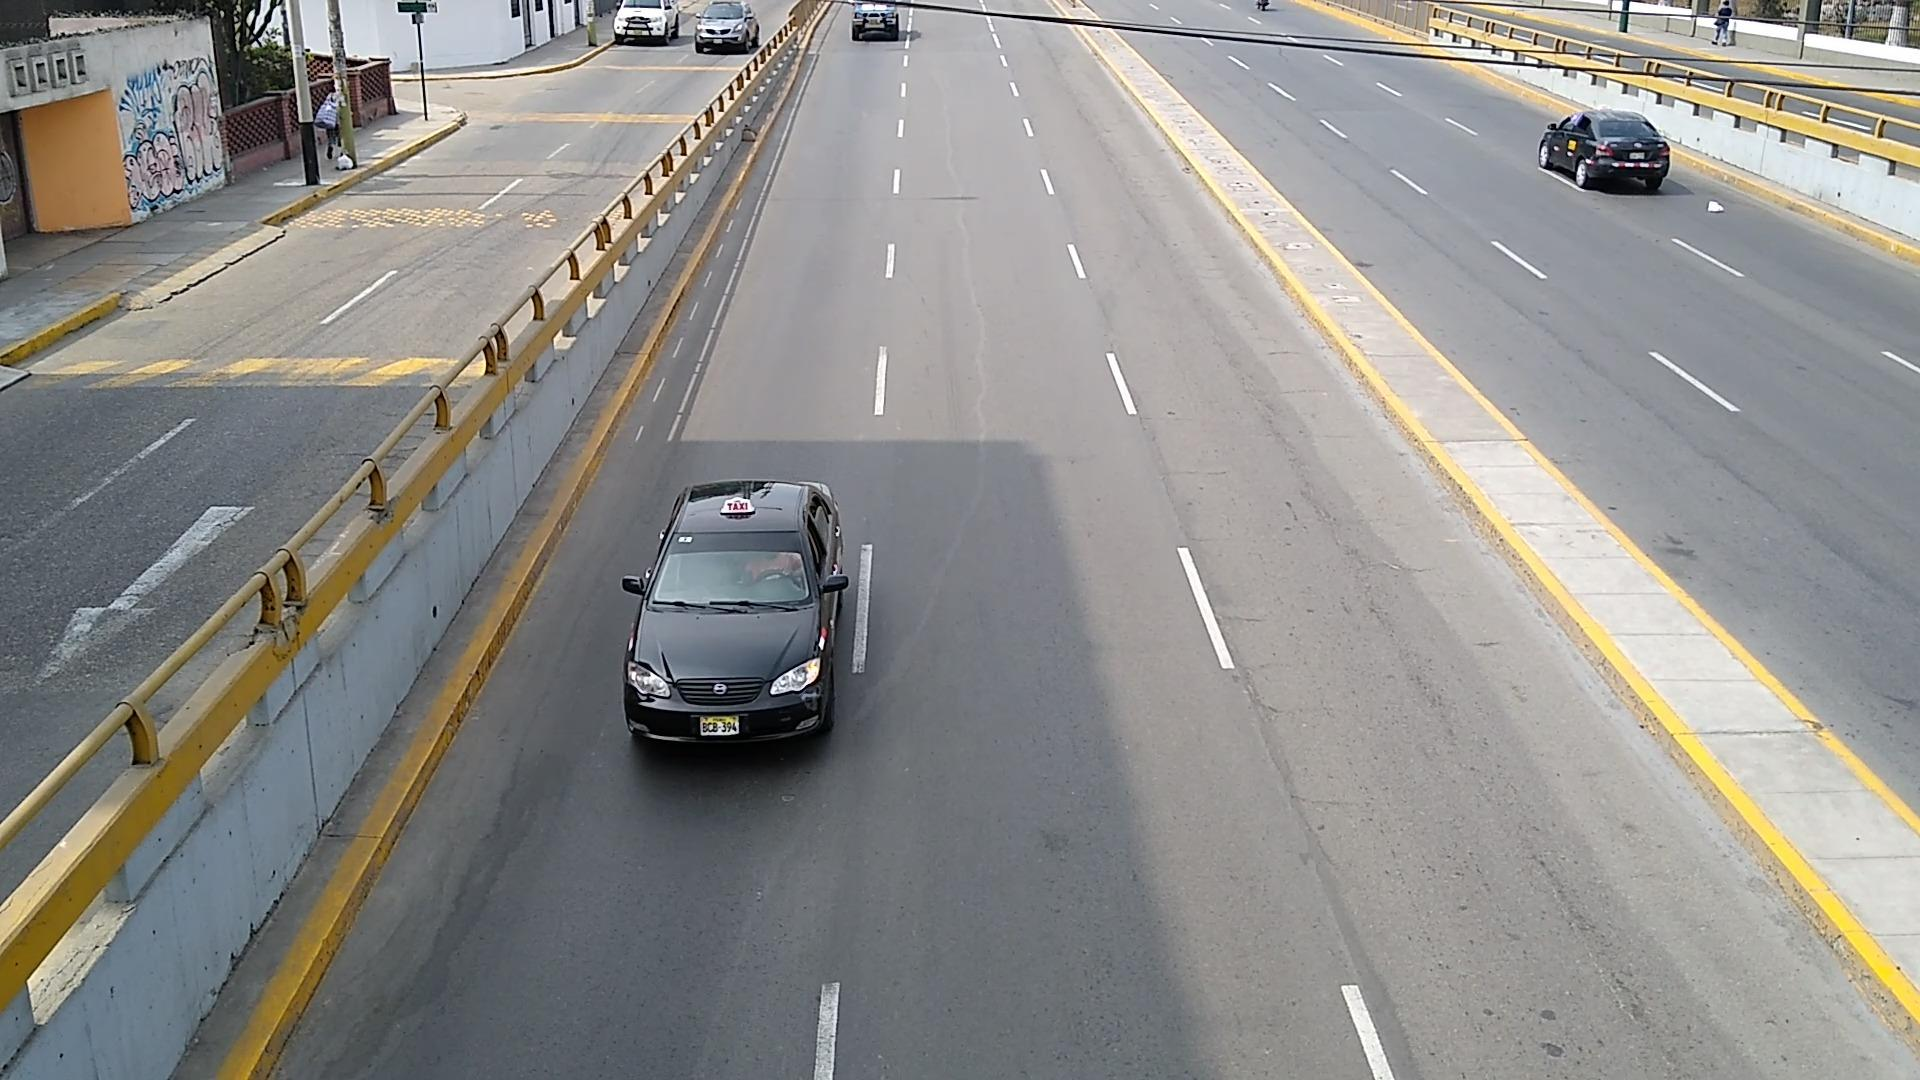car: (622, 480, 852, 742), (1538, 108, 1668, 191), (694, 0, 761, 50), (612, 0, 679, 45), (852, 0, 899, 41)
